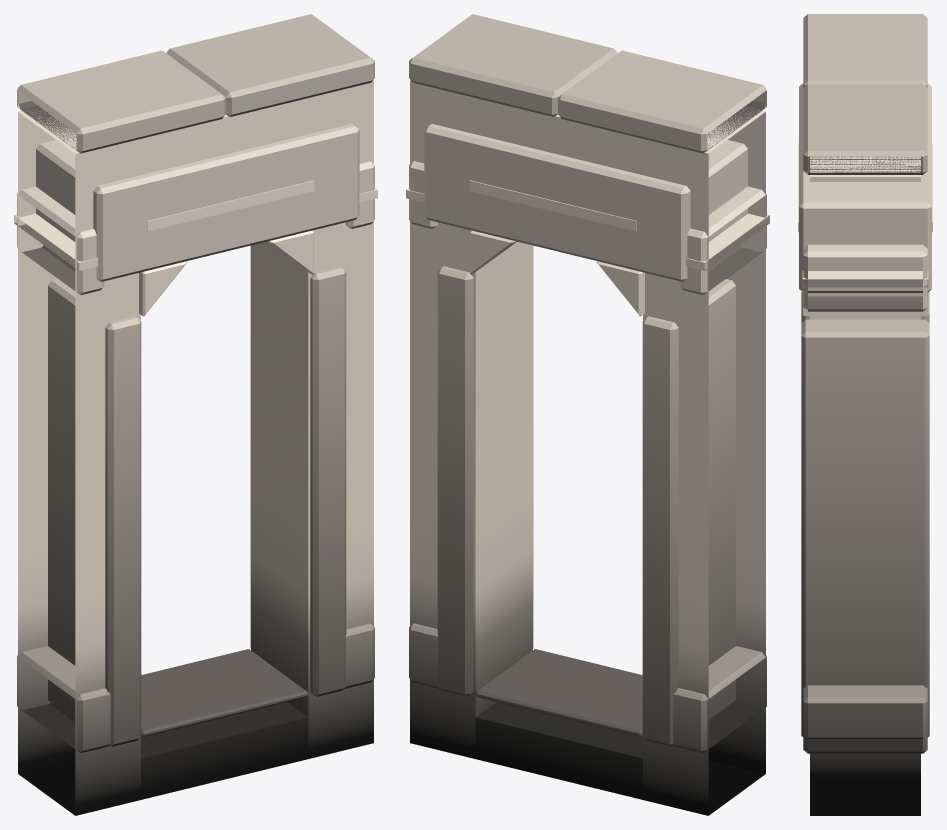
Rendered from SM_VKI_Wall_Dwarf_Door_150_Full.fbx.
3 views of the same model, side by side, from view 1: azimuth 30°, elevation 25°; view 2: azimuth 150°, elevation 25°; view 3: azimuth 270°, elevation 25° (orthographic). The views are drawn at different scales.
Parts seen in each view (by area): view 1: SM_VKI_Wall_Dwarf_Door_150_Full.001; view 2: SM_VKI_Wall_Dwarf_Door_150_Full.001; view 3: SM_VKI_Wall_Dwarf_Door_150_Full.001.
Boxes of the visible parts, box(x1,y1,x2,y2) form: SM_VKI_Wall_Dwarf_Door_150_Full.001: box(14, 14, 377, 815); SM_VKI_Wall_Dwarf_Door_150_Full.001: box(406, 14, 769, 815); SM_VKI_Wall_Dwarf_Door_150_Full.001: box(798, 14, 932, 815).
Size of the model in its own units: 1.5 by 3.3 by 0.608.
